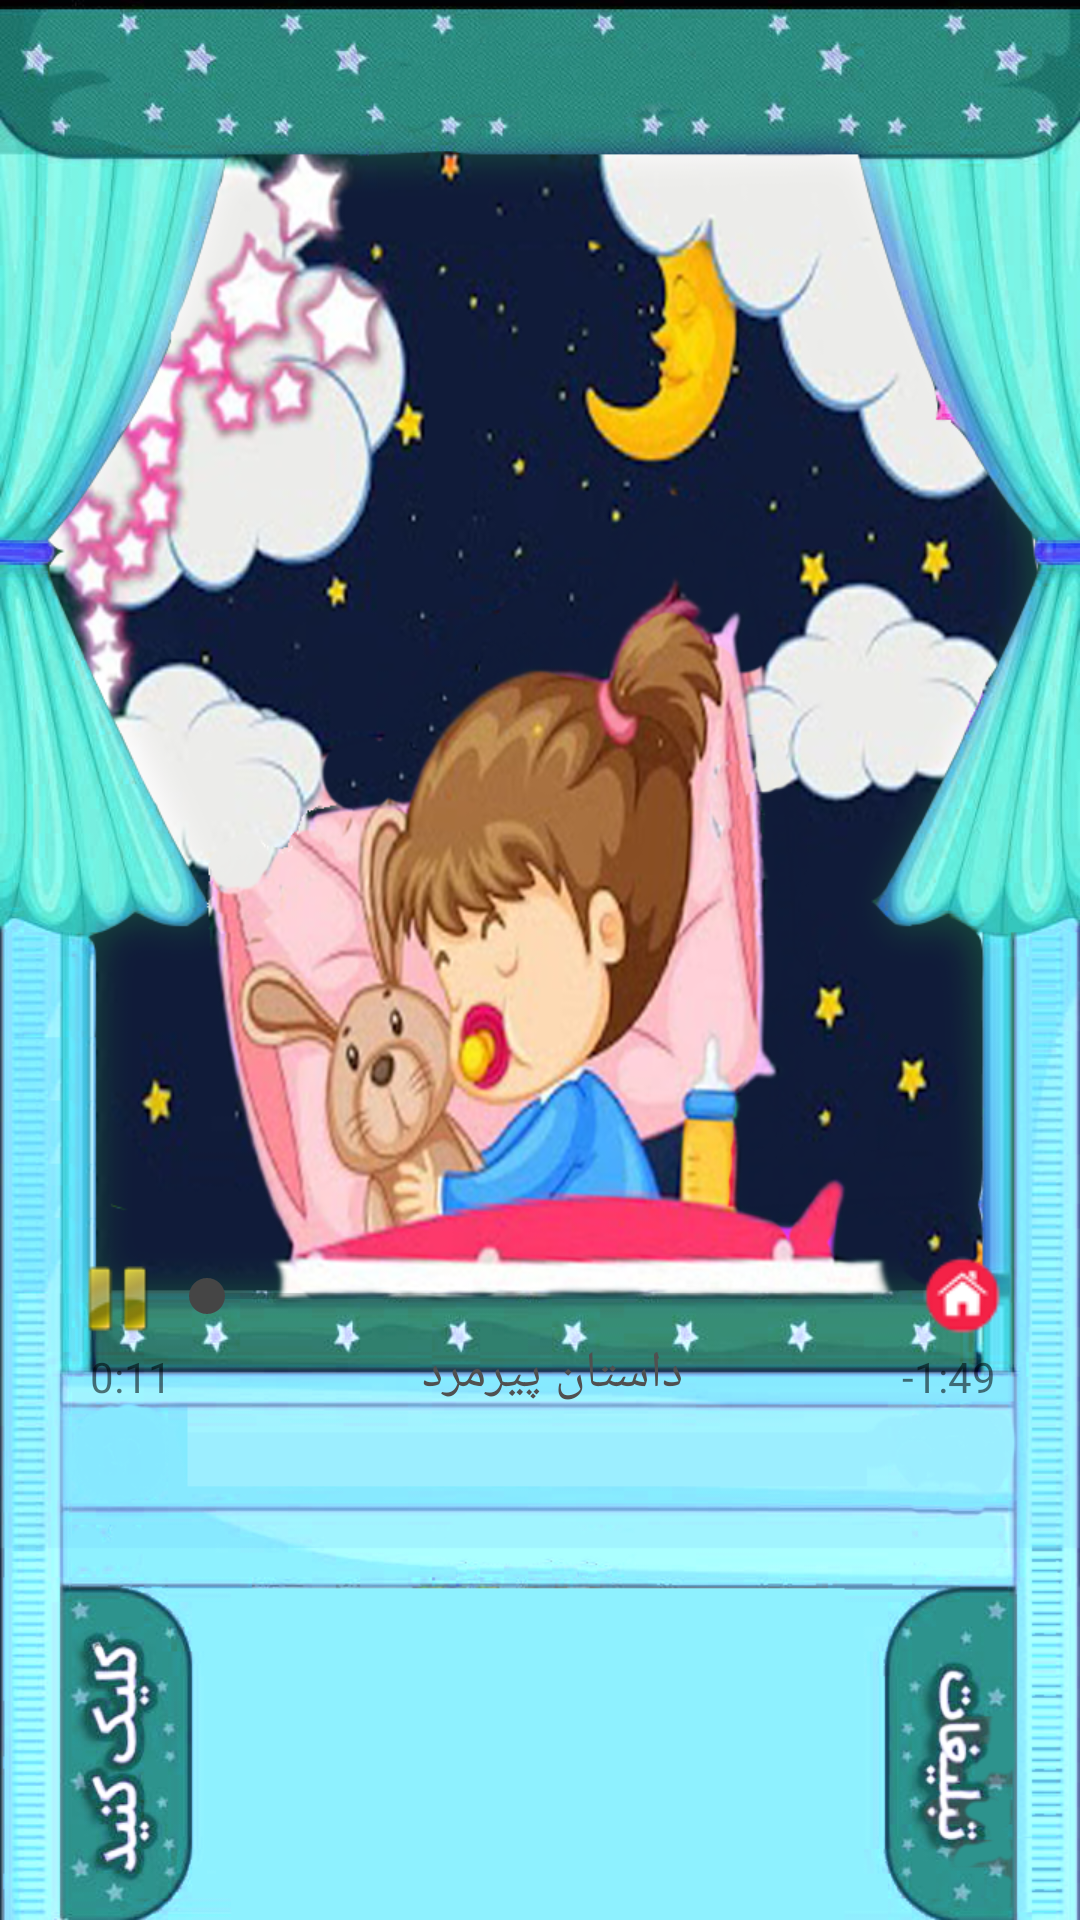

Where to tap for icons on this 1080*1920 app screen, as [x,y]:
home: [963,1296]
pause: [117,1296]
